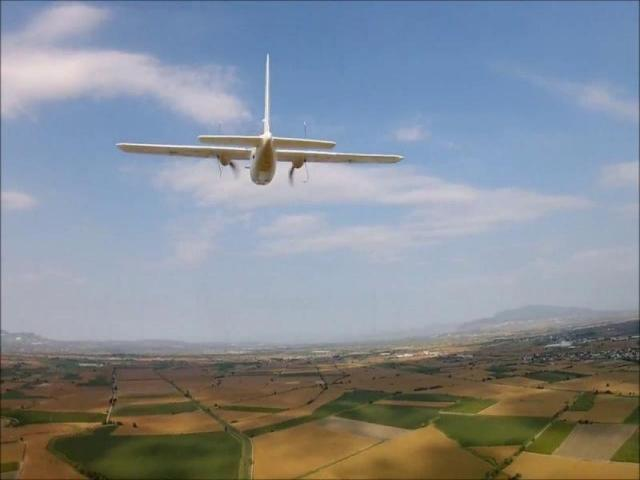hedef: (112, 43, 414, 199)
